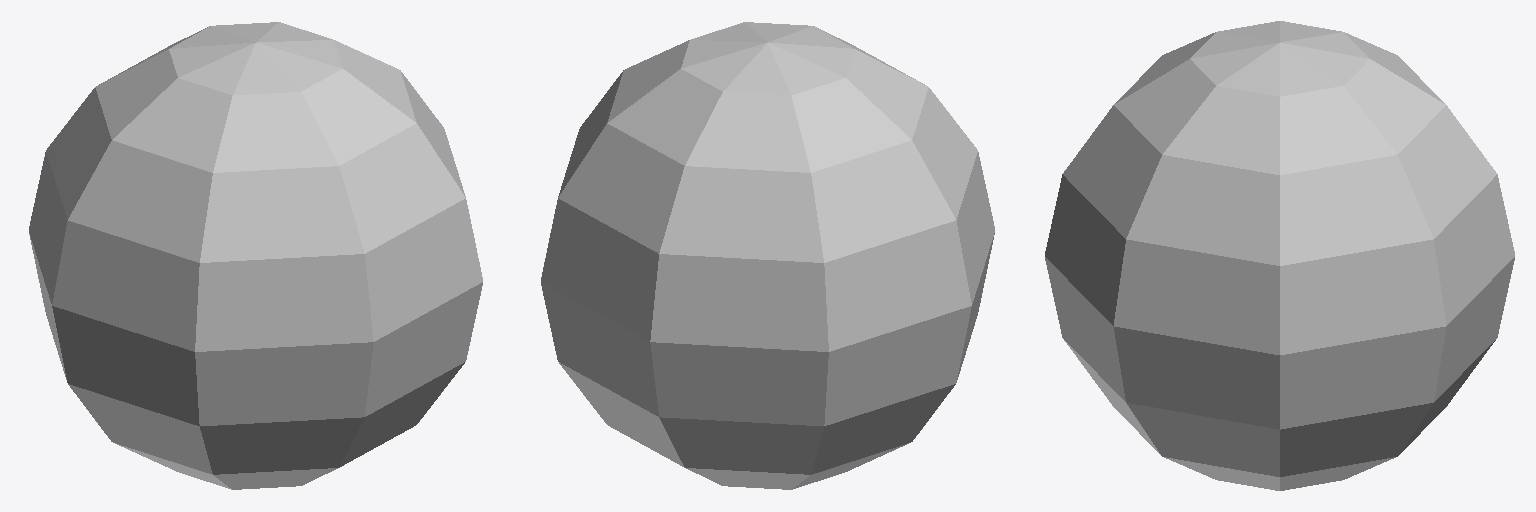
The model's file is newestsphere.obj.
The picture shows the model from 3 angles: view 1: azimuth 30°, elevation 25°; view 2: azimuth 150°, elevation 25°; view 3: azimuth 270°, elevation 25°; orthographic projection.
Parts seen in each view (by area): view 1: sphere; view 2: sphere; view 3: sphere.
Boxes of the visible parts, <box> form: sphere: <box>29,22,482,489</box>; sphere: <box>541,22,994,489</box>; sphere: <box>1045,21,1514,490</box>.
Size of the model in its own units: 1 by 1 by 1.